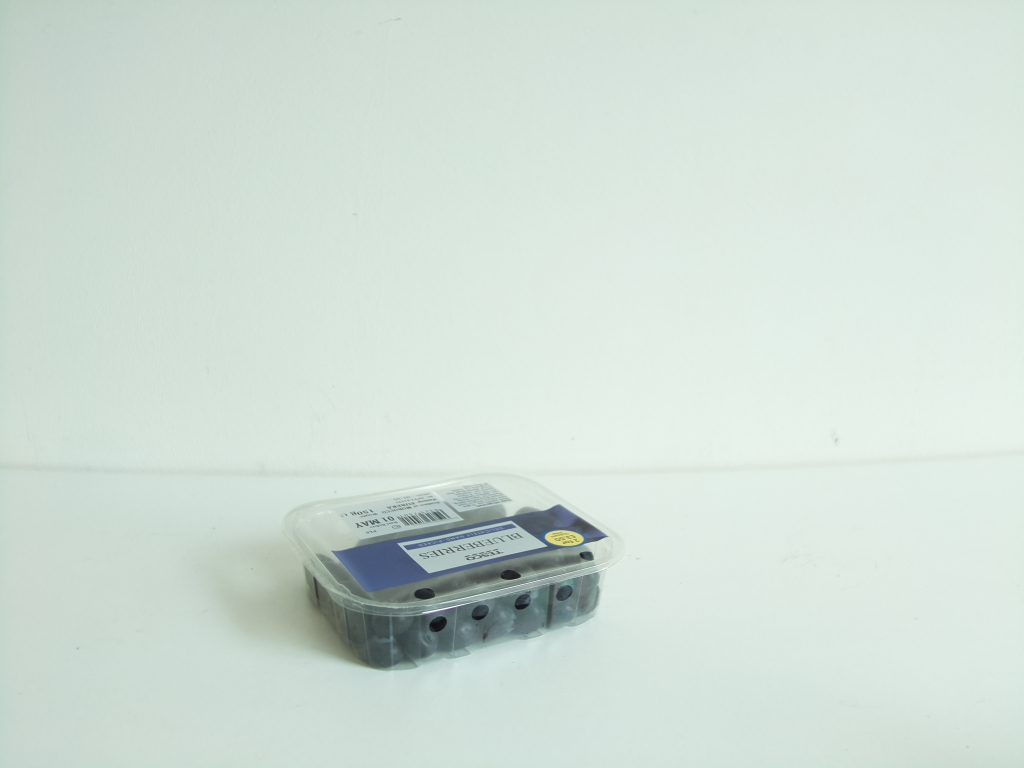soft-fruit: (284, 470, 624, 668)
